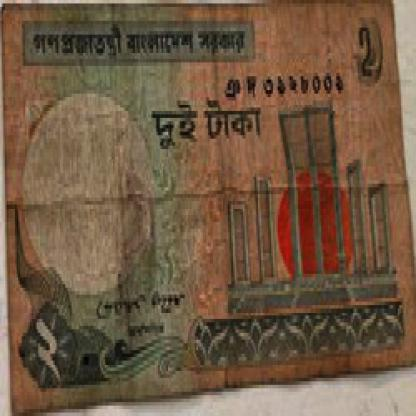two taka: (146, 97, 276, 156), (30, 316, 81, 388)
